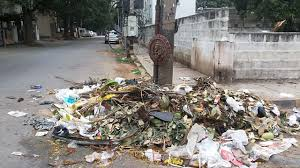garbage: (47, 80, 293, 168)
